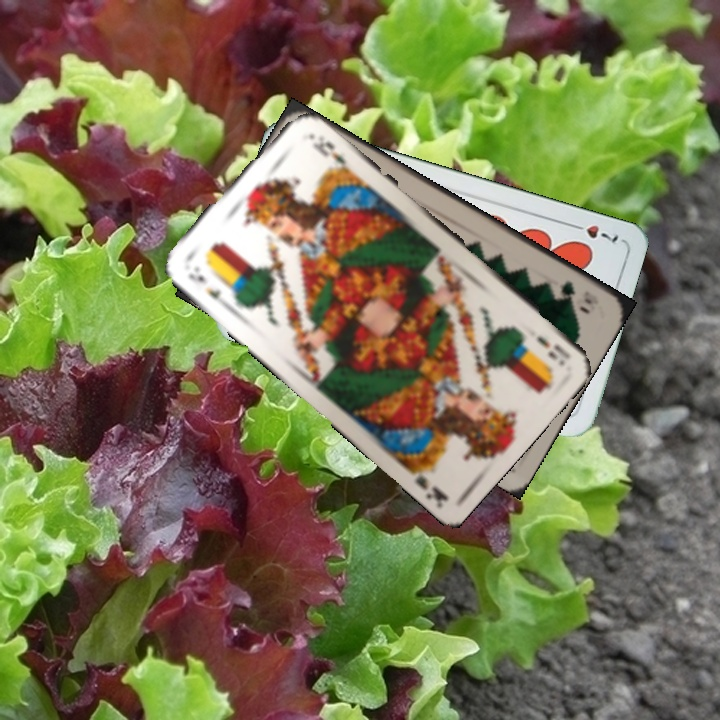EK: (184, 262, 232, 308), (532, 331, 574, 368)
G10: (556, 277, 595, 307)
H7: (565, 219, 622, 246)
